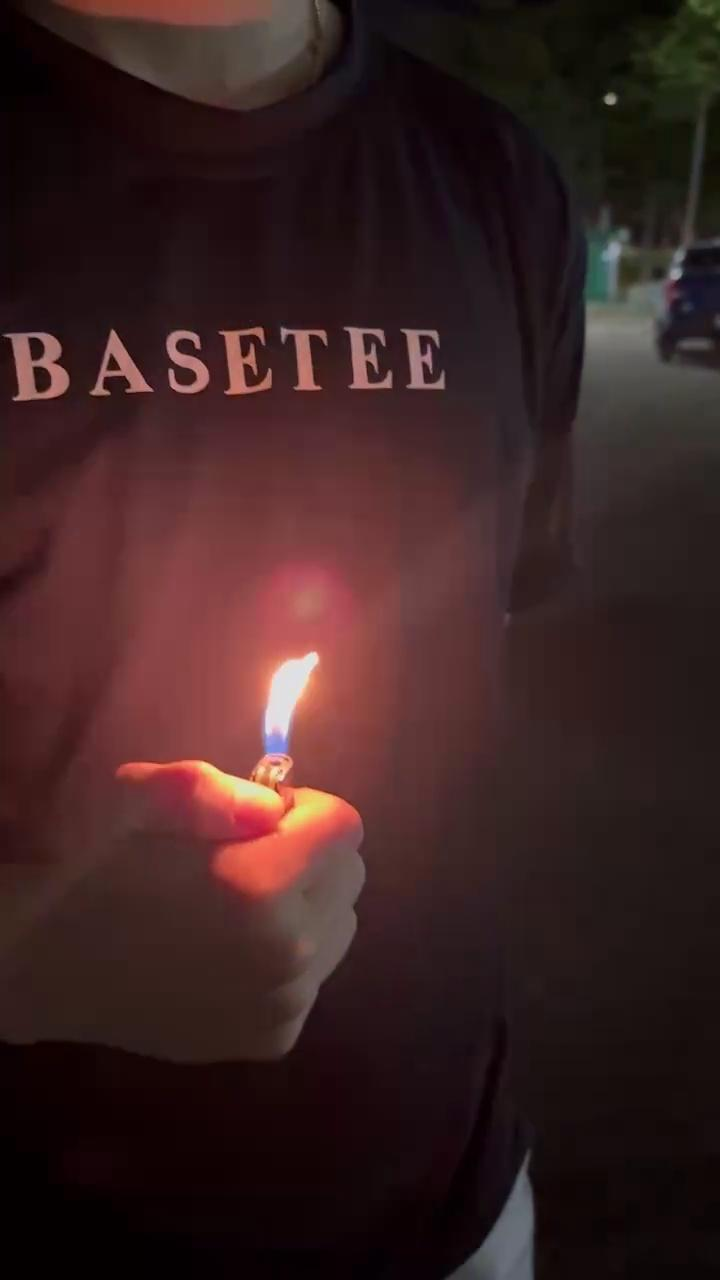Fire: (250, 650, 335, 775)
